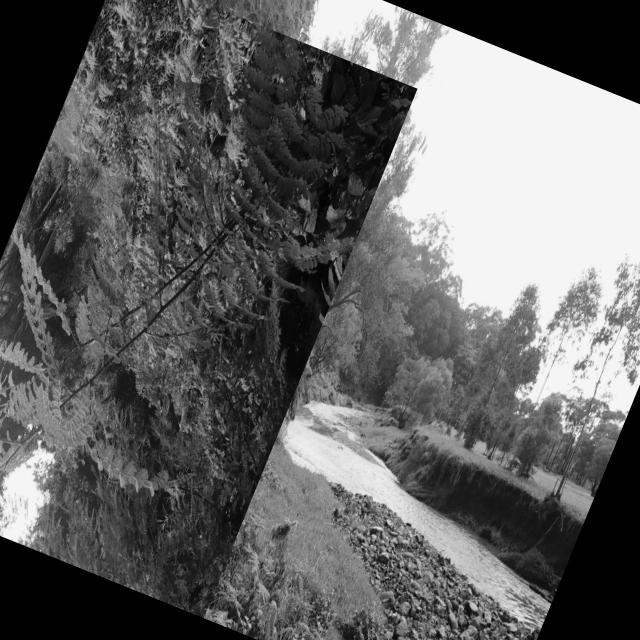Mysore-Thorn-Weed: (0, 0, 416, 618)
